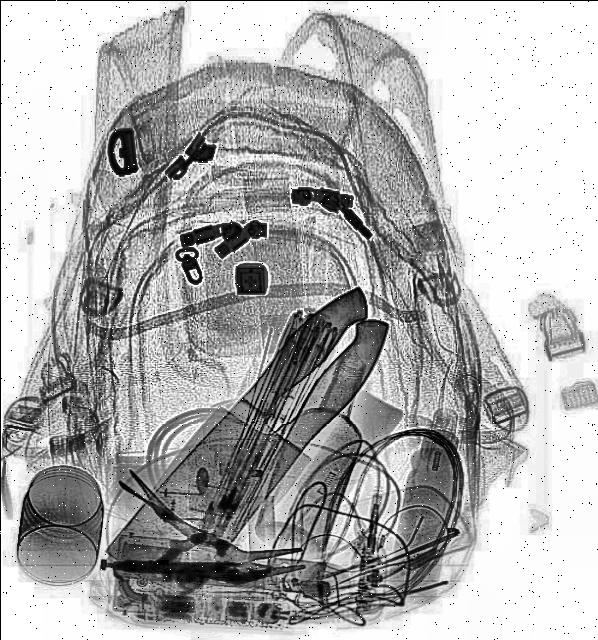Knife: (102, 272, 418, 616), (102, 274, 407, 608)
